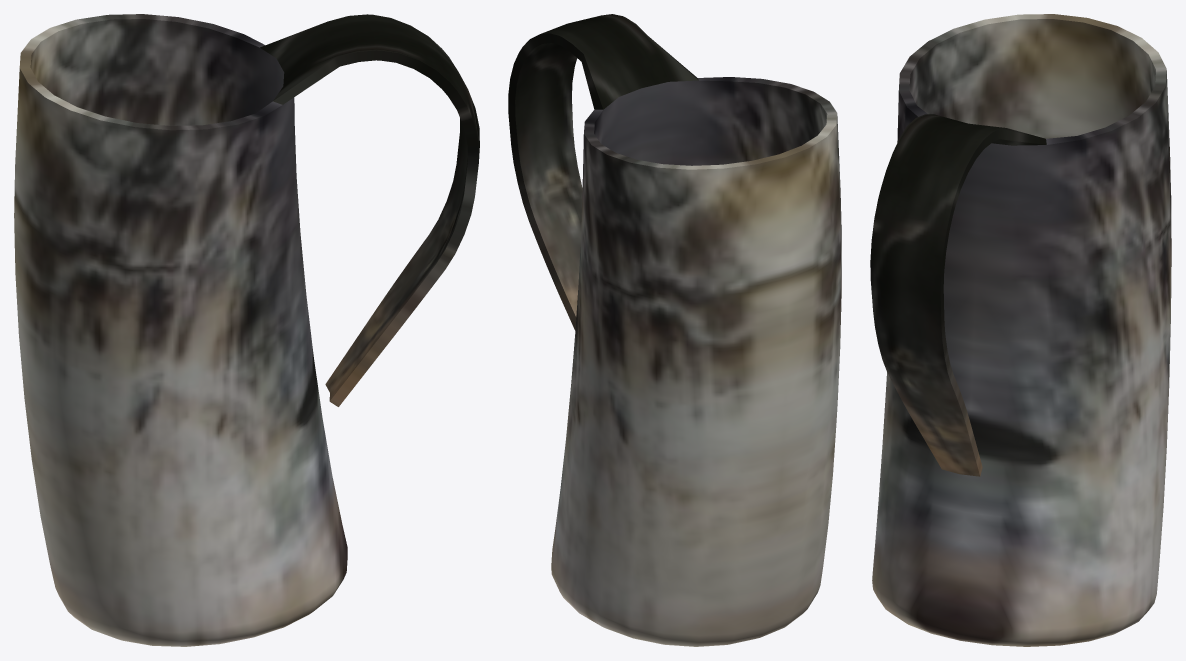
The model's file is asset.glb.
The picture shows the model from 3 angles, left to right: view 1: azimuth 30°, elevation 25°; view 2: azimuth 150°, elevation 25°; view 3: azimuth 270°, elevation 25°; orthographic projection. The views are drawn at different scales.
Visible parts, largest first — view 1: Circle.072; view 2: Circle.072; view 3: Circle.072.
Boxes of the visible parts, x1,y1,x2,y2 form: Circle.072: (14,14,479,646); Circle.072: (508,14,841,646); Circle.072: (870,14,1171,646).
Size of the model in its own units: 0.2086 by 0.2871 by 0.1431.
Materials: 1 (1 with a texture image).
